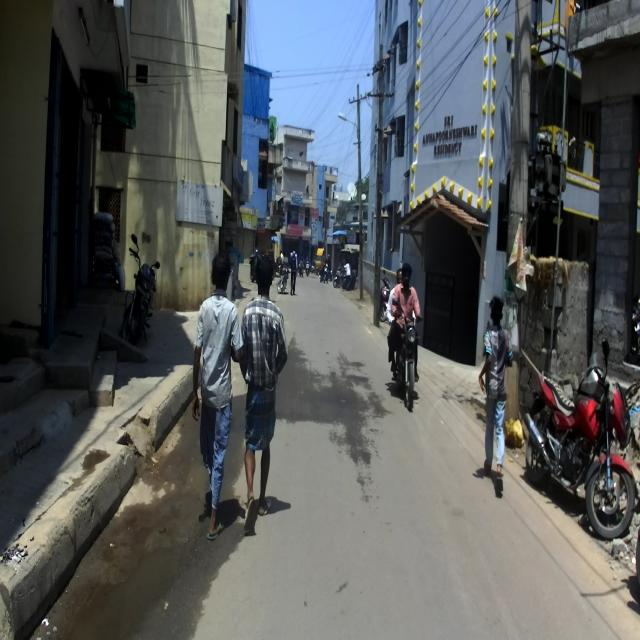high: (243, 255, 279, 524), (478, 297, 509, 482)
